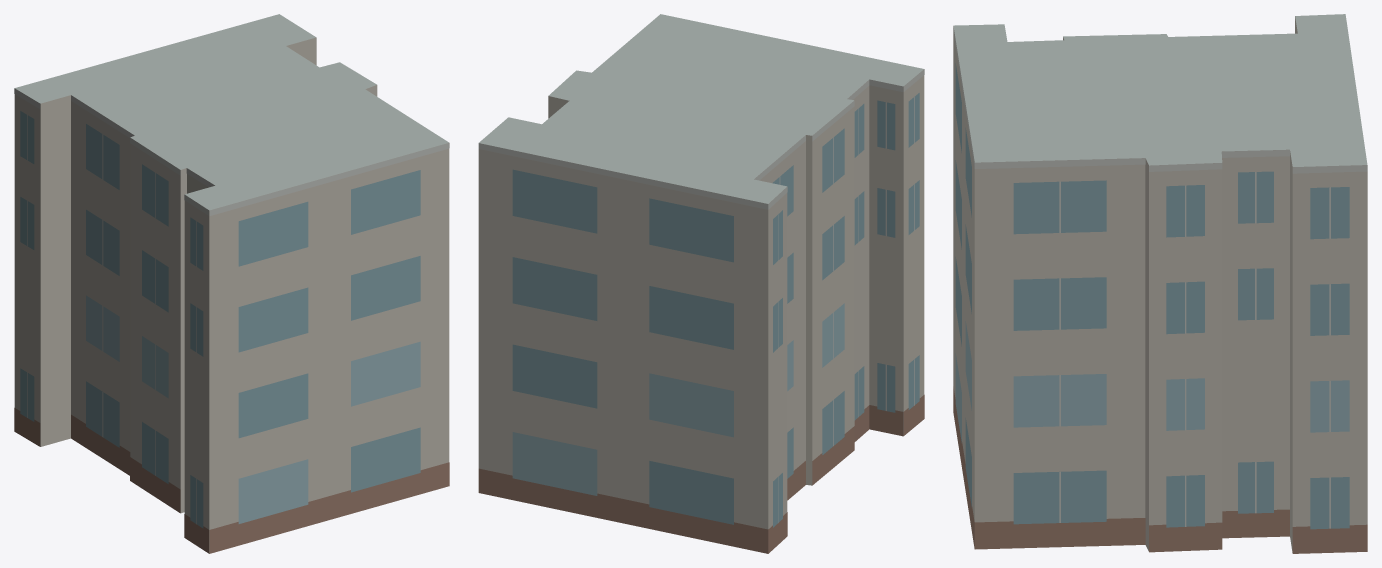
File: survey-upis-32908547.glb
3 renders of one model, left to right at view 1: azimuth 30°, elevation 25°; view 2: azimuth 150°, elevation 25°; view 3: azimuth 270°, elevation 25°, orthographic. The views are drawn at different scales.
Parts seen in each view (by area): view 1: survey-upis-32908547.tmp; view 2: survey-upis-32908547.tmp; view 3: survey-upis-32908547.tmp.
Part boxes in pixels (x1,y1,x2,y2): survey-upis-32908547.tmp: [14, 14, 449, 553]; survey-upis-32908547.tmp: [478, 14, 924, 553]; survey-upis-32908547.tmp: [953, 14, 1367, 553].
Bounding box in the file's own units: 12.32 × 14.5 × 14.08.
